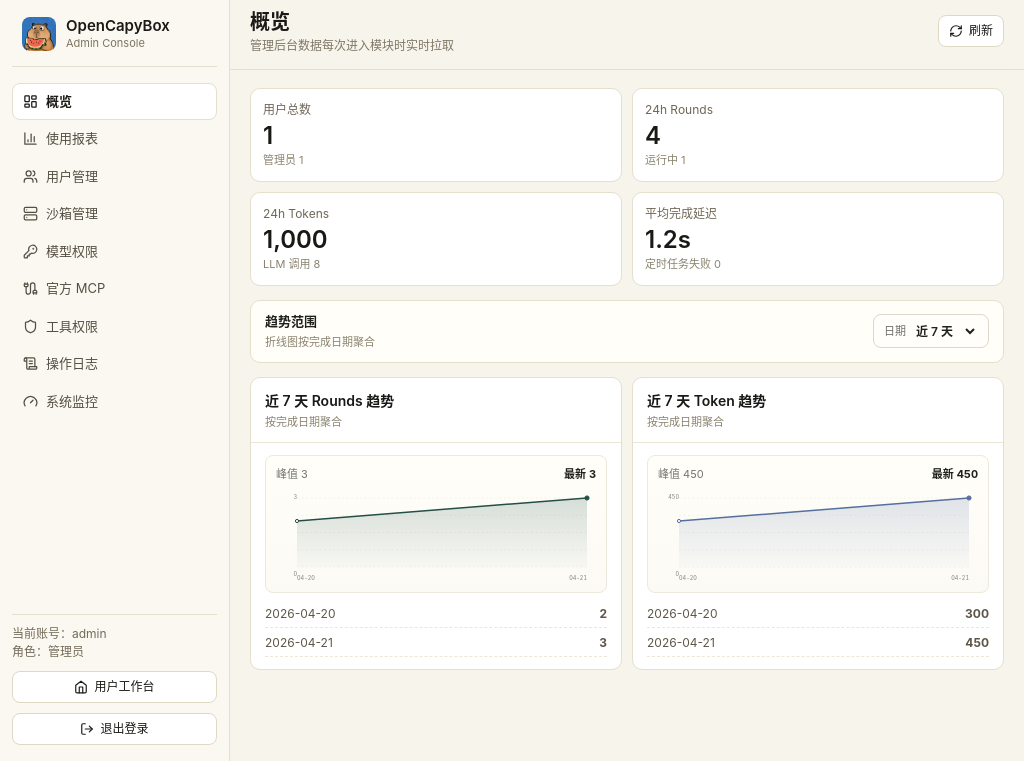
it: AdminConsole 组件 › 系统监控应展示数据库运行态诊断
The image size is (1024, 761).
Click the button "系统监控": (114, 401) [12,382,217,420]
(page scrolled)
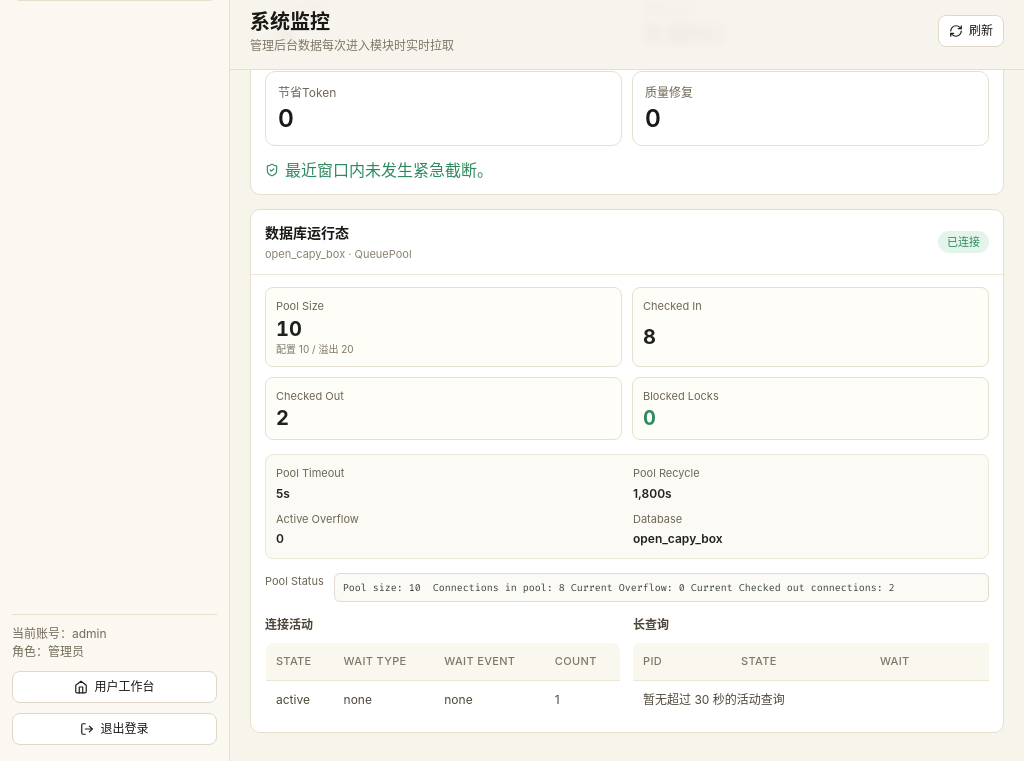
Now the heading "数据库运行态" is shown, box [265,224,349,241]
Now the text "open_capy_box · QueuePool" is shown, box [265,246,412,262]
Now the text "Checked Out" is shown, box [276,389,344,403]
